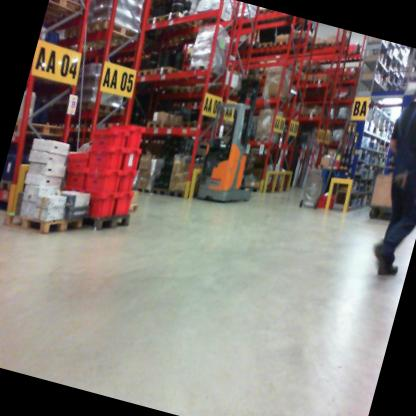forklift: (187, 59, 300, 232)
pallet: (0, 194, 88, 252), (58, 89, 132, 134), (11, 113, 68, 156), (81, 203, 139, 245), (82, 14, 143, 53), (62, 22, 113, 56), (250, 6, 301, 38), (151, 59, 197, 94), (142, 115, 190, 146), (140, 10, 181, 44), (46, 0, 90, 24), (268, 34, 300, 66), (251, 35, 279, 66), (165, 184, 192, 205), (136, 64, 161, 85), (322, 36, 340, 60), (310, 75, 332, 94), (344, 49, 364, 68), (130, 182, 152, 199), (0, 178, 15, 202), (149, 185, 168, 200), (128, 201, 143, 218), (303, 110, 322, 122)
small_load_carrier: (84, 115, 133, 161), (78, 156, 123, 203), (85, 137, 128, 180), (79, 189, 118, 226), (58, 158, 95, 196), (60, 139, 91, 175), (113, 163, 140, 201), (119, 119, 150, 149), (108, 186, 136, 219), (118, 144, 143, 173)
